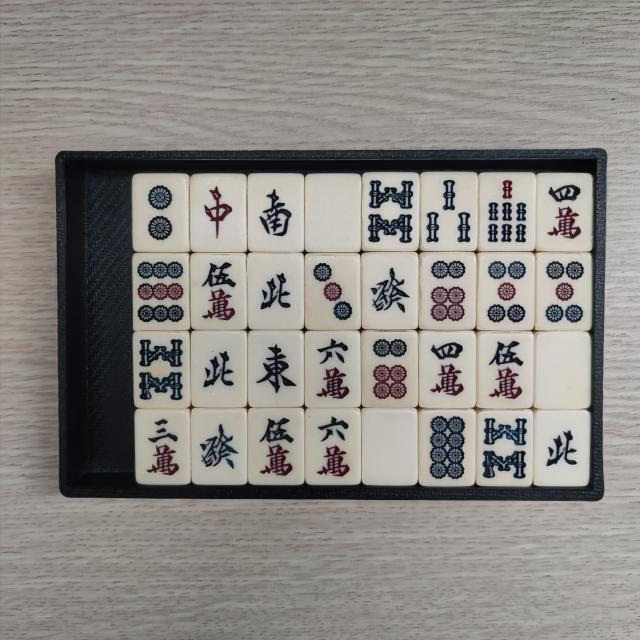hdg: (366, 256, 413, 324), (196, 414, 242, 482)
hdr: (196, 179, 240, 247)
hdw: (312, 180, 357, 249), (366, 413, 412, 478), (540, 337, 584, 404)
hwe: (253, 334, 300, 401)
hwn: (254, 258, 300, 324), (197, 337, 243, 402), (541, 414, 585, 478)
hws: (254, 178, 298, 246)
sb3: (423, 180, 472, 250)
sb7: (485, 177, 532, 246)
sb8: (366, 177, 416, 248), (138, 336, 186, 404), (481, 416, 528, 484)
sc3: (141, 414, 186, 482)
sc4: (424, 336, 470, 404), (544, 181, 588, 249)
sc5: (195, 258, 242, 328), (254, 413, 300, 482), (482, 335, 528, 404)
sc6: (309, 334, 355, 404), (310, 412, 354, 482)
sd2: (138, 180, 182, 248)
sd3: (310, 258, 358, 326)
sd5: (484, 259, 530, 329), (541, 258, 586, 326)
sd6: (427, 257, 472, 325), (367, 338, 413, 404)
sd8: (426, 414, 472, 482)
sd9: (135, 256, 185, 326)
